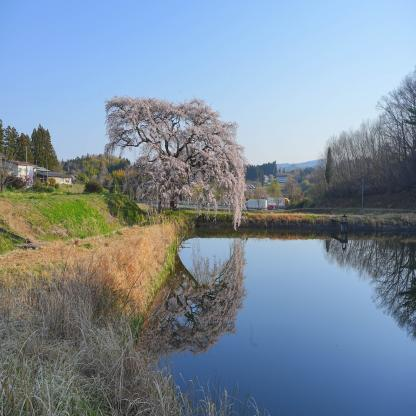EdohiganSakura: (104, 94, 249, 232)
